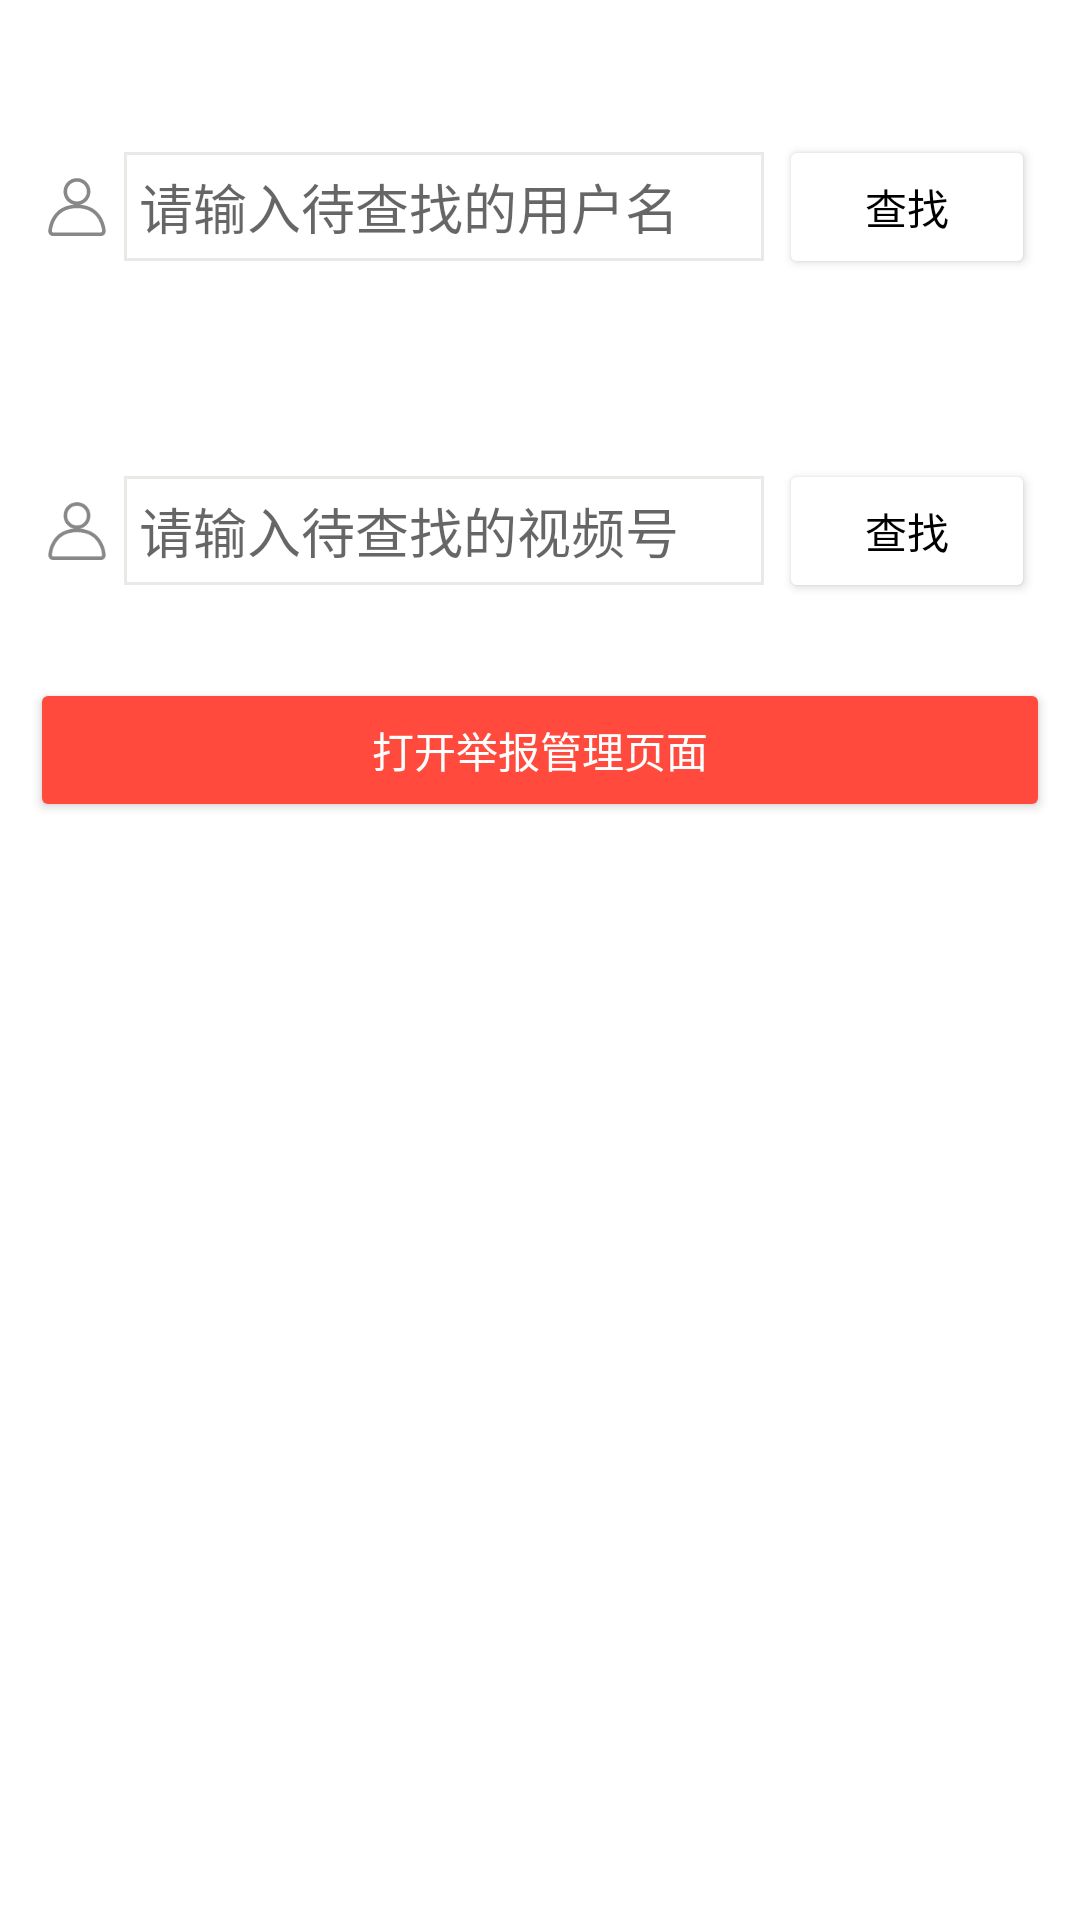

Point at icon controls on the screen. Image size 1080 x 1920, points as (x=x, y=y).
personal: (x=77, y=207), (x=77, y=531)
